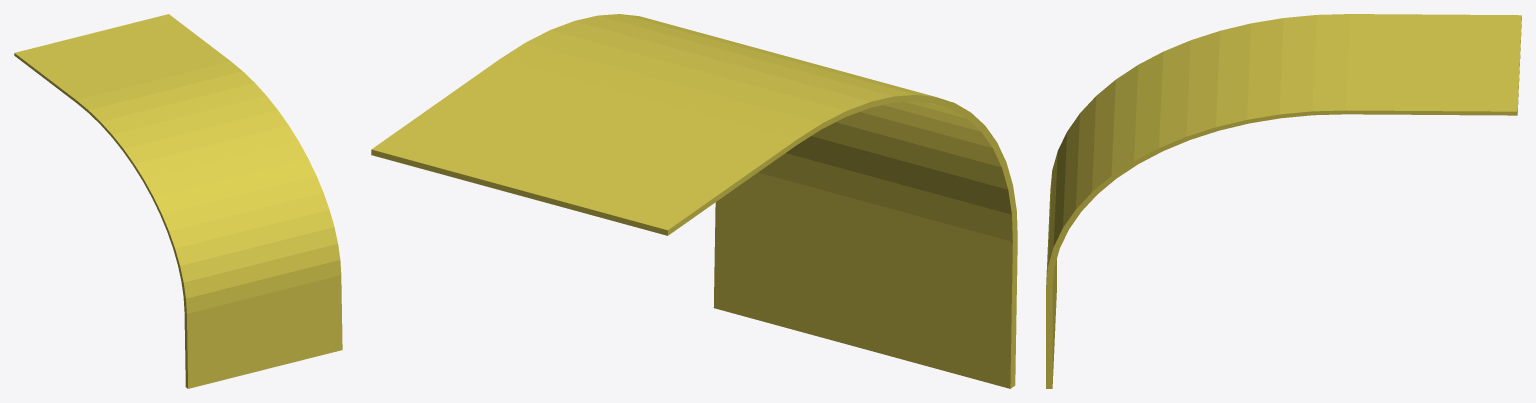
File: Panduit Cover Spillover.glb
The picture shows the model from 3 angles, left to right: view 1: azimuth 30°, elevation 25°; view 2: azimuth 150°, elevation 25°; view 3: azimuth 270°, elevation 25°; orthographic projection. The views are drawn at different scales.
Parts seen in each view (by area): view 1: Mesh_Mesh_head_geo.001_lambert2SG.001; view 2: Mesh_Mesh_head_geo.001_lambert2SG.001; view 3: Mesh_Mesh_head_geo.001_lambert2SG.001.
Boxes of the visible parts, left/top/right/bottom form: Mesh_Mesh_head_geo.001_lambert2SG.001: left=14, top=14, right=342, bottom=388; Mesh_Mesh_head_geo.001_lambert2SG.001: left=371, top=14, right=1017, bottom=388; Mesh_Mesh_head_geo.001_lambert2SG.001: left=1046, top=14, right=1521, bottom=388.
Size of the model in its own units: 21.98 by 28.16 by 43.05.
